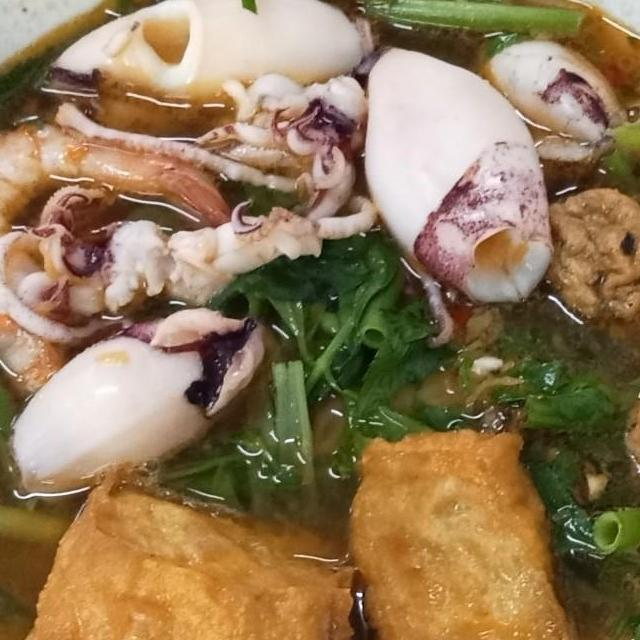dau hu: (2, 452, 369, 640), (334, 418, 598, 640)
muc: (0, 174, 327, 349), (360, 38, 562, 314), (4, 296, 270, 504), (11, 0, 385, 144), (173, 61, 391, 246), (469, 26, 633, 178)
tom: (0, 116, 234, 397)
